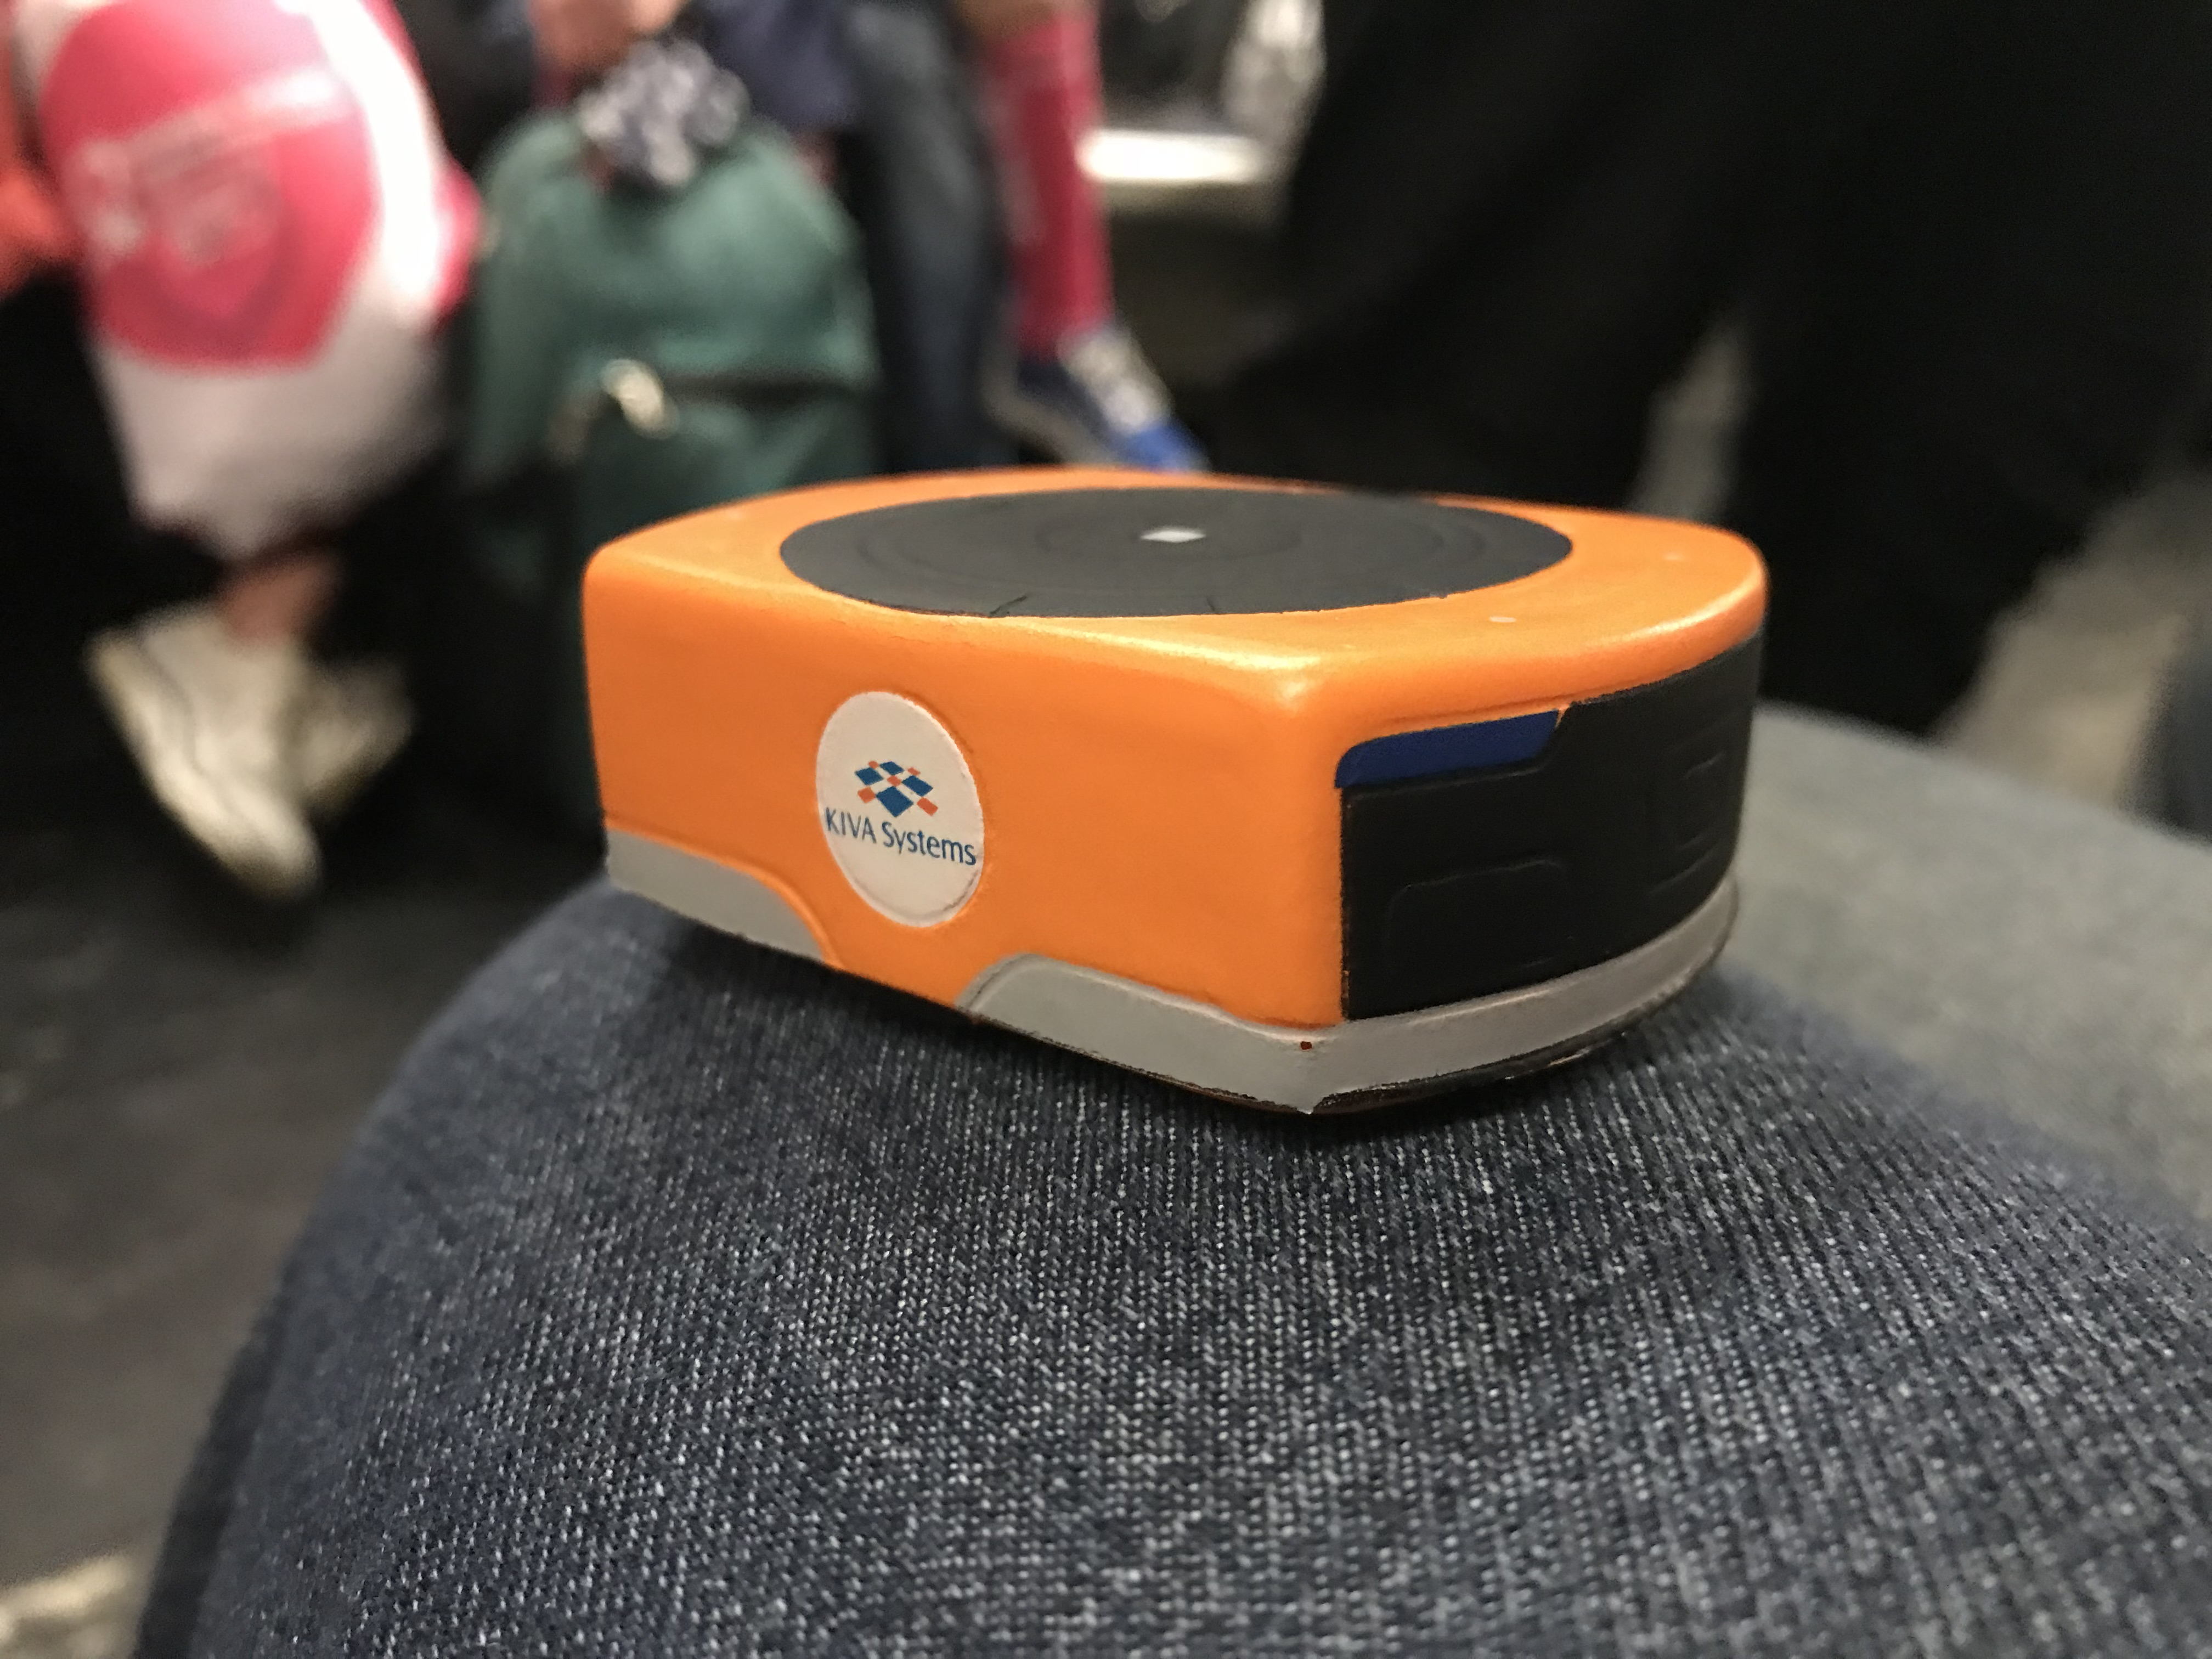amazon_bot: (524, 437, 1797, 1164)
